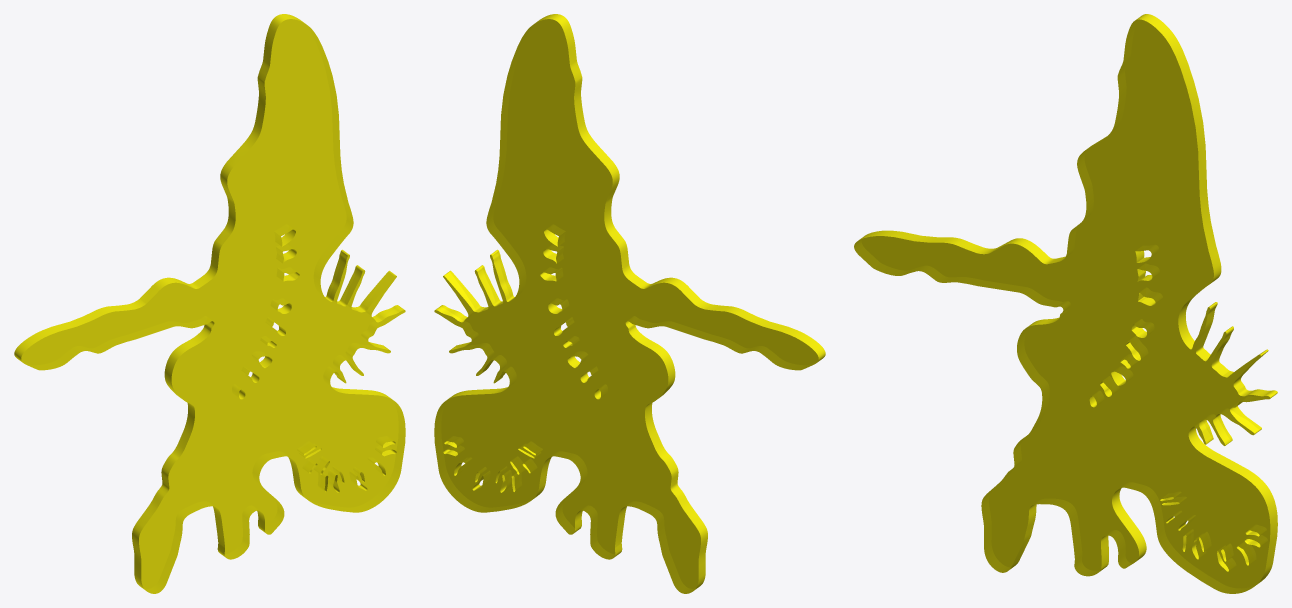
The picture shows the model from 3 angles, left to right: view 1: azimuth 30°, elevation 25°; view 2: azimuth 150°, elevation 25°; view 3: azimuth 330°, elevation 25°; orthographic projection. The views are drawn at different scales.
Parts seen in each view (by area): view 1: 14-IRDEYELLO; view 2: 14-IRDEYELLO; view 3: 14-IRDEYELLO.
Boxes of the visible parts, x1,y1,x2,y2 form: 14-IRDEYELLO: [14, 14, 405, 593]; 14-IRDEYELLO: [434, 14, 825, 593]; 14-IRDEYELLO: [854, 14, 1277, 593].
Bounding box in the file's own units: 22.44 × 30.24 × 0.7.
